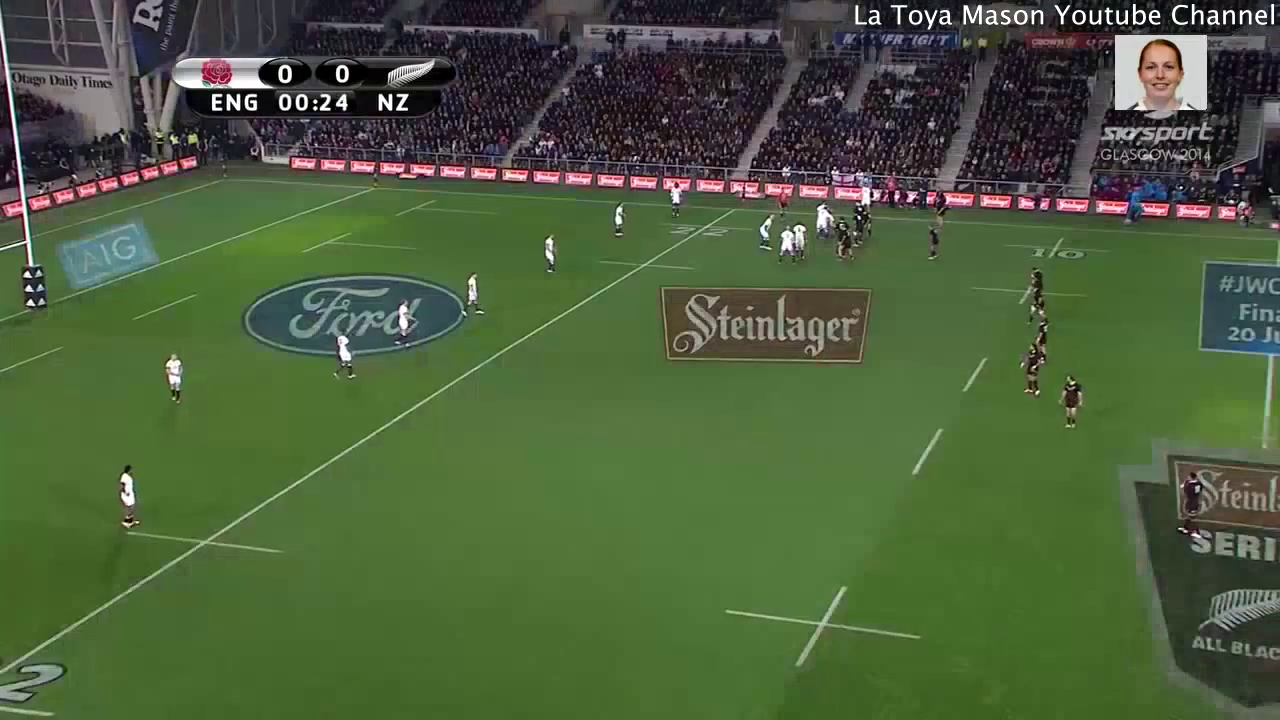corner_flag: (362, 160, 385, 195), (215, 152, 234, 188)
player: (105, 449, 147, 536), (157, 345, 191, 411), (331, 329, 363, 384), (1022, 259, 1053, 315), (1178, 470, 1202, 534), (1061, 375, 1087, 432), (833, 223, 861, 271), (392, 297, 414, 356), (537, 228, 564, 276), (461, 268, 486, 317), (1022, 342, 1044, 395), (606, 196, 629, 243), (661, 180, 688, 220), (775, 223, 798, 268), (751, 211, 776, 252), (787, 219, 809, 262), (920, 220, 941, 263), (929, 189, 950, 231), (851, 200, 873, 238), (853, 183, 875, 221), (1036, 312, 1051, 365), (811, 204, 828, 242)
posts: (1, 14, 54, 312)
